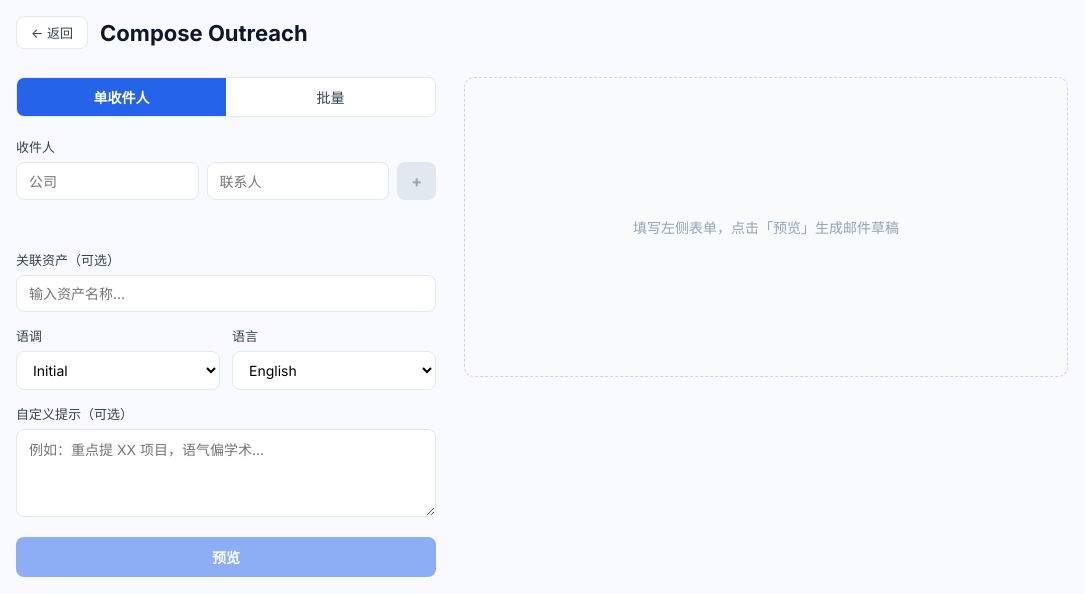
Test case: ComposePage — preview button disabled state › preview button is enabled after adding a recipient
The image size is (1085, 594).
In the field with test id "chip-company": (107, 181) [16, 162, 199, 200], type "Acme"
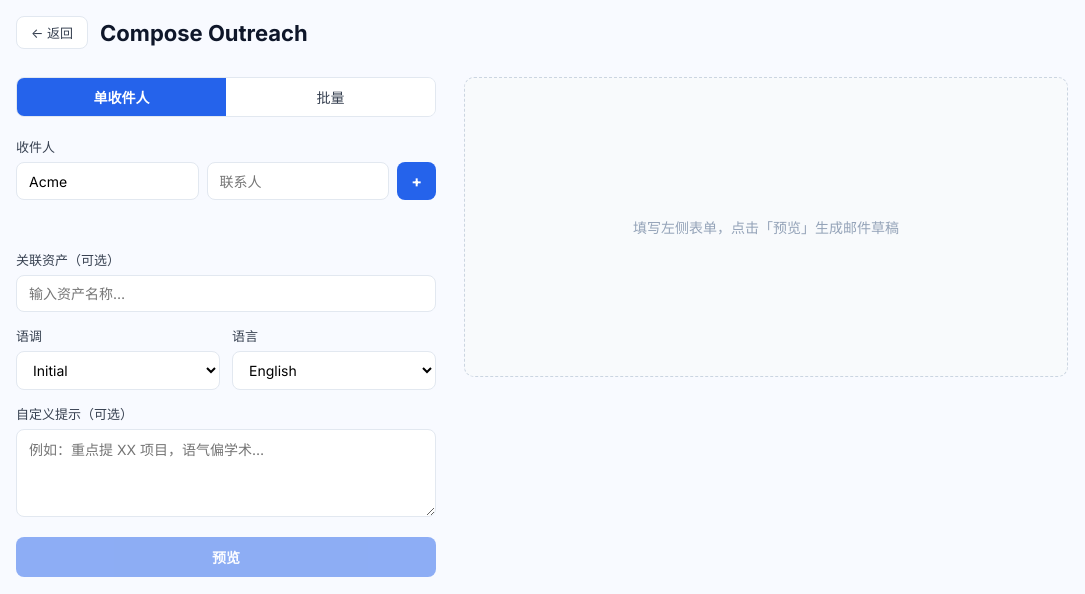
Click the button "+": (417, 181) [397, 162, 436, 200]
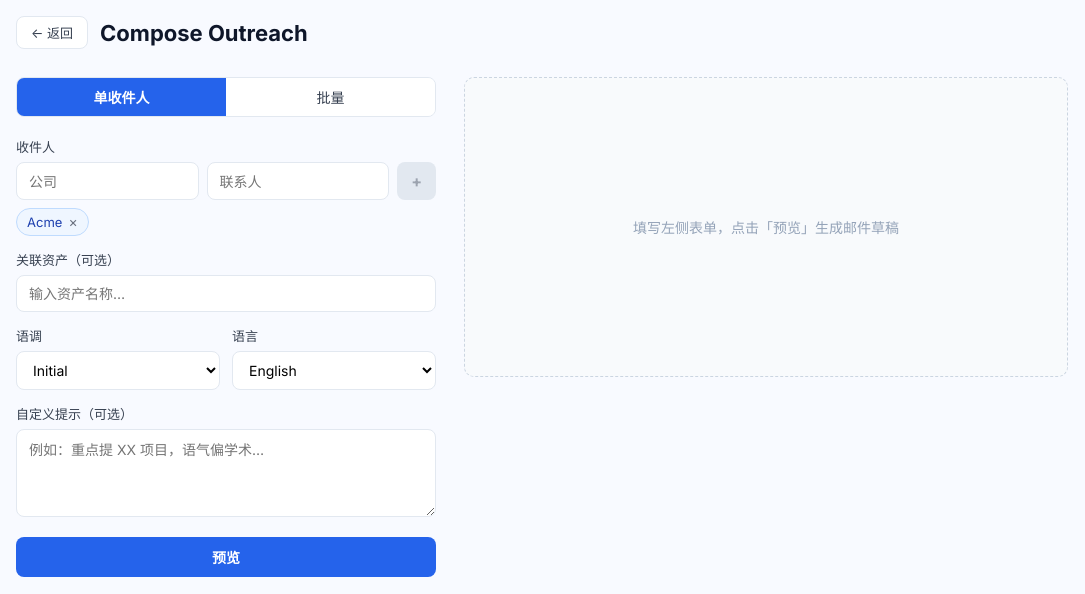
Expected: the button with test id "btn-preview" is enabled, [16, 537, 436, 577]
